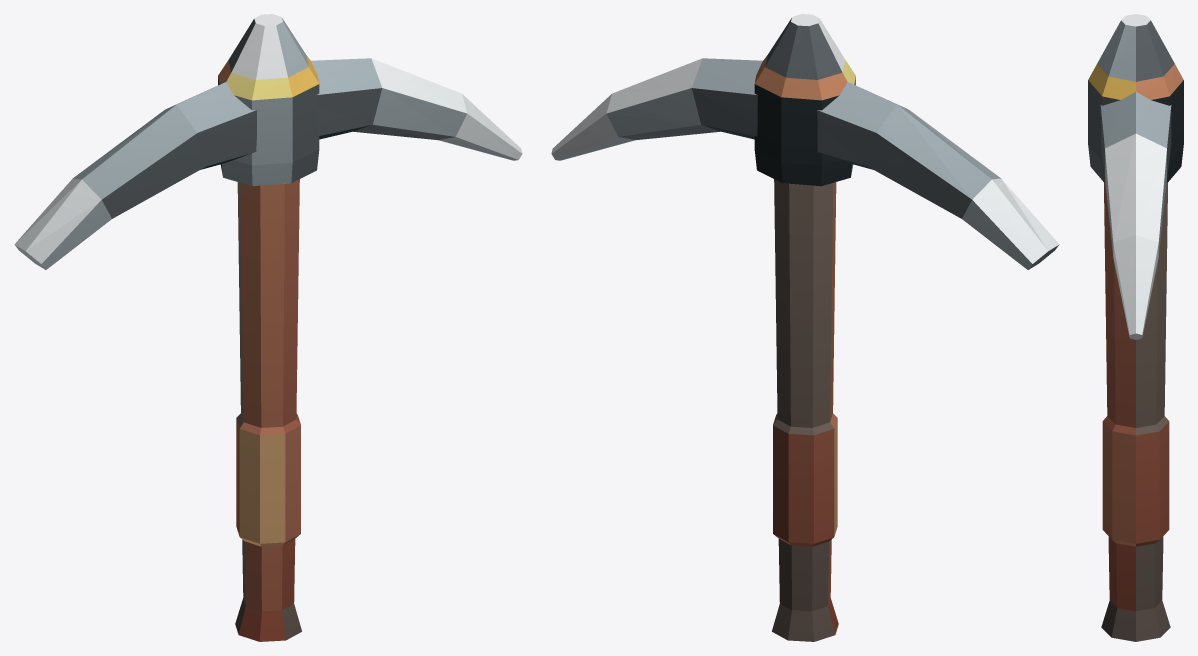
File: tool_pickaxe_dwarven.glb
The picture shows the model from 3 angles, left to right: view 1: azimuth 30°, elevation 25°; view 2: azimuth 150°, elevation 25°; view 3: azimuth 270°, elevation 25°; orthographic projection.
Visible parts, largest first — view 1: model; view 2: model; view 3: model.
Part boxes in pixels (left/top/right/bottom): model: left=14, top=14, right=522, bottom=641; model: left=551, top=14, right=1059, bottom=641; model: left=1088, top=14, right=1183, bottom=641.
Bounding box in the file's own units: 0.9562 × 1.12 × 0.16.
Materials: 1 (1 with a texture image).
